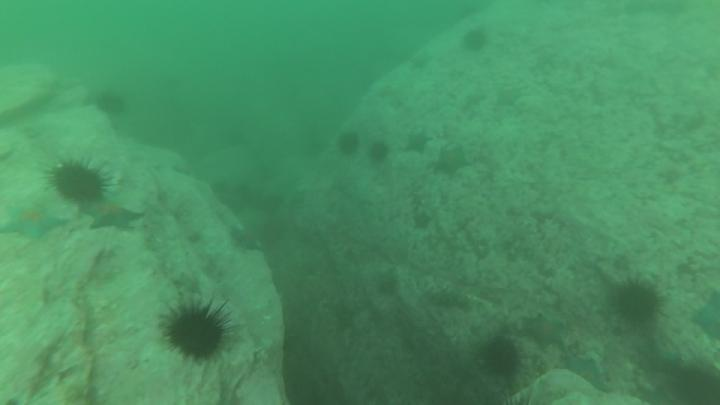echinus: (163, 295, 233, 368), (609, 270, 667, 338), (44, 157, 113, 210), (471, 331, 528, 388), (92, 88, 128, 119), (334, 127, 362, 162), (462, 26, 489, 56), (368, 138, 392, 169)
starfish: (559, 346, 618, 400), (2, 201, 70, 242), (517, 311, 575, 358), (81, 199, 151, 237), (686, 285, 720, 353), (398, 123, 436, 160), (227, 223, 264, 259), (435, 146, 474, 178), (493, 83, 528, 111), (408, 46, 436, 74), (409, 207, 436, 235)
